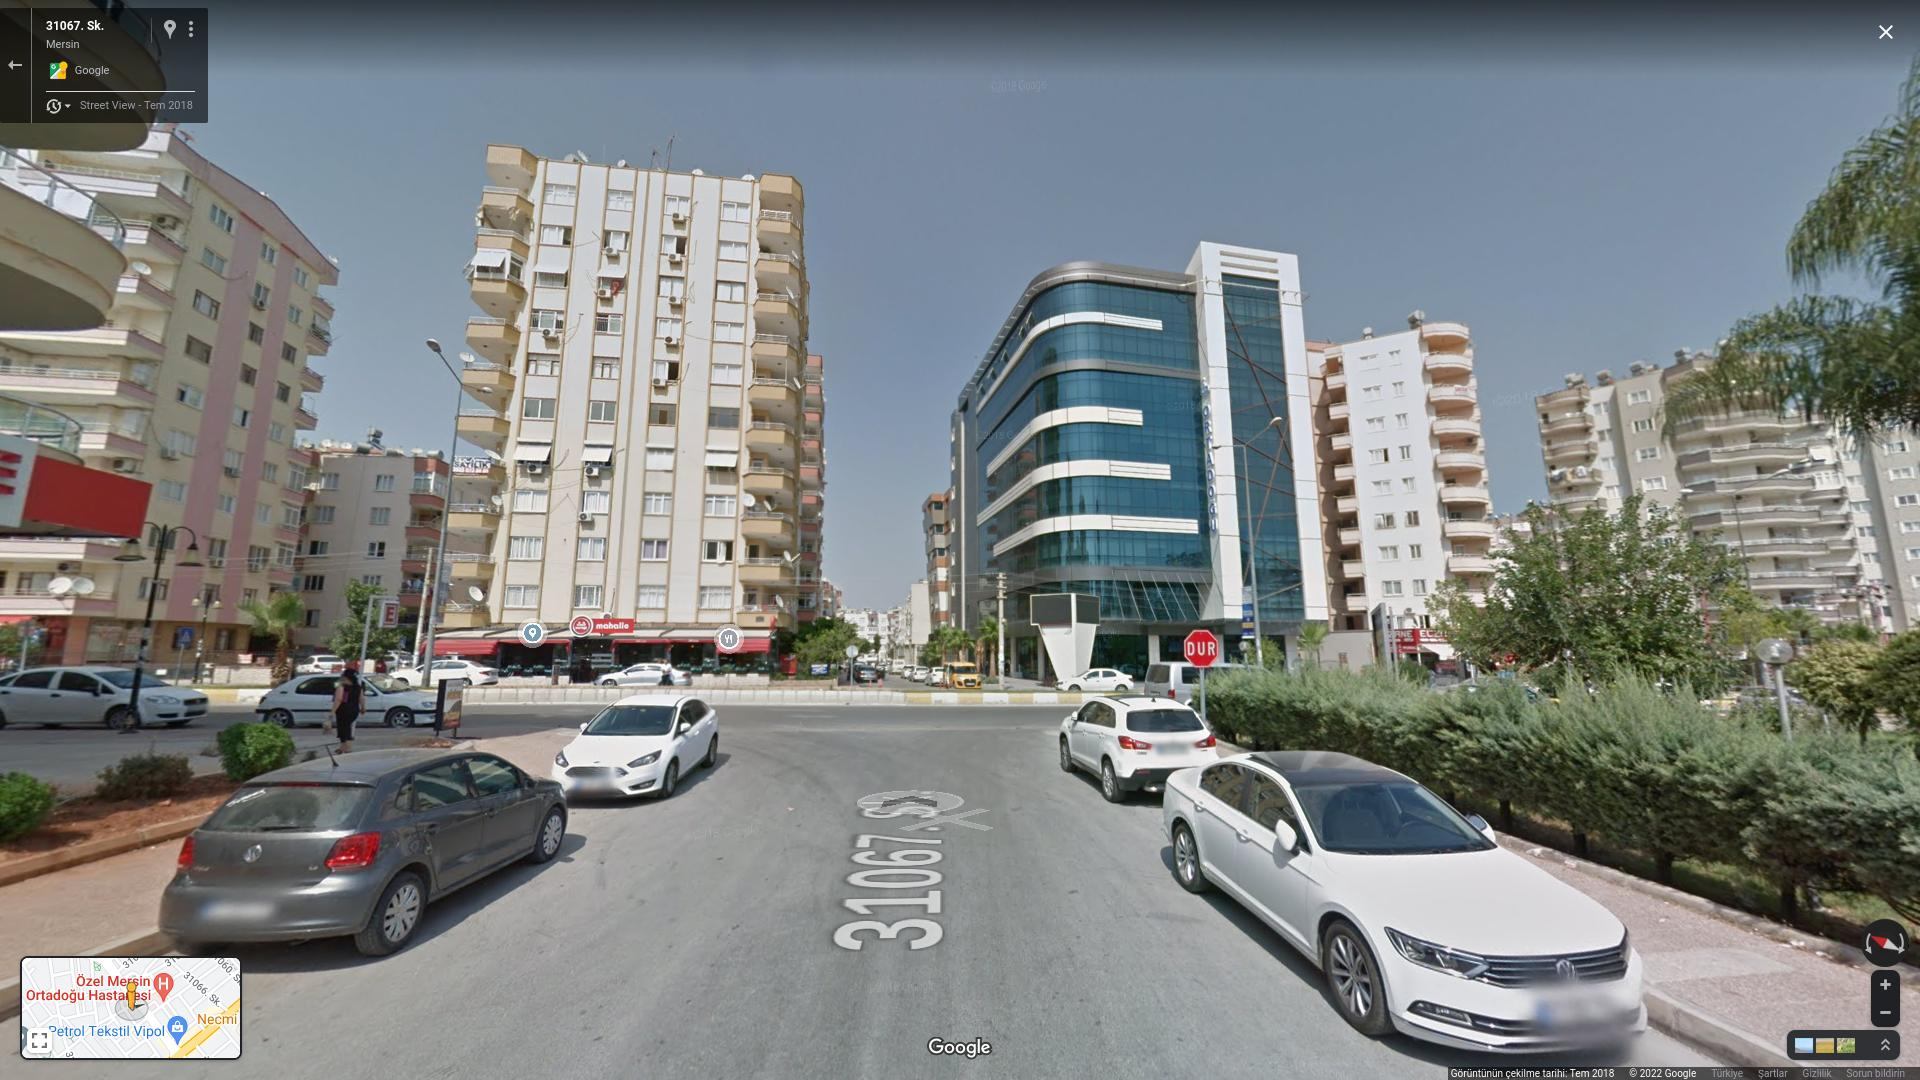stop: (1183, 630, 1218, 666)
